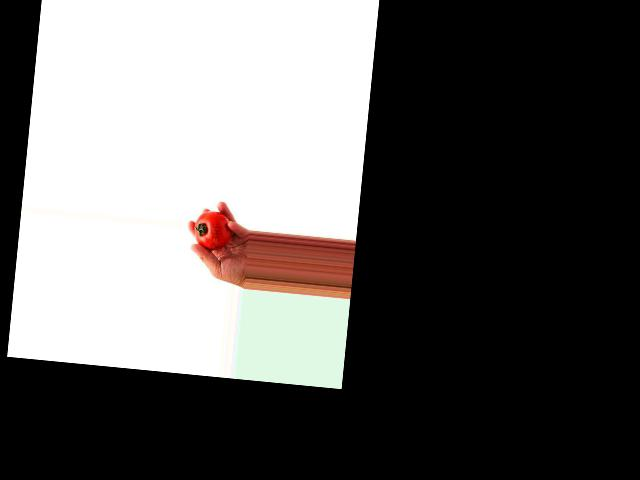tomato: (192, 209, 233, 251)
